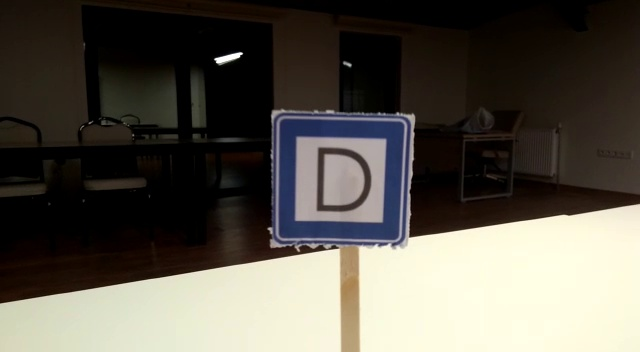durak: (274, 116, 411, 242)
